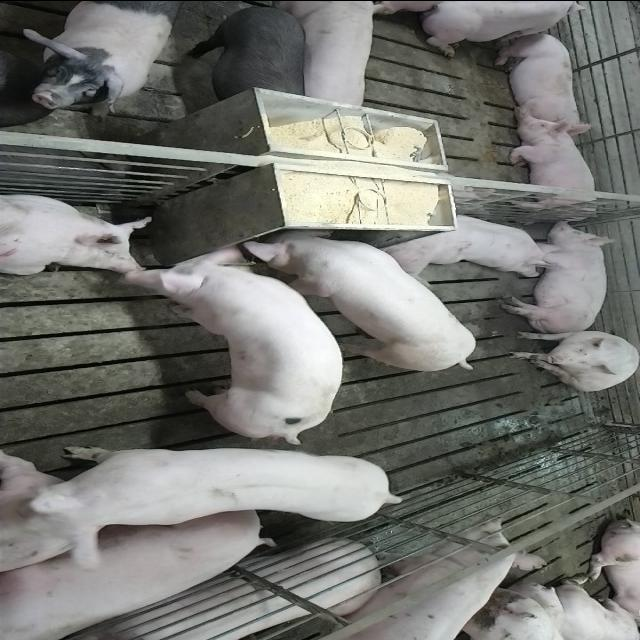Feeding: (120, 242, 344, 442), (235, 229, 478, 376)
Lateral_lying: (0, 514, 273, 640), (498, 218, 620, 334)
Sitting: (506, 328, 638, 390)
Standing: (8, 441, 406, 552), (292, 519, 542, 640), (26, 2, 174, 114), (178, 3, 310, 111), (276, 3, 374, 115)
Sternal_lying: (0, 189, 154, 279), (381, 209, 566, 273), (408, 2, 602, 56), (490, 29, 589, 130), (505, 117, 604, 216)
